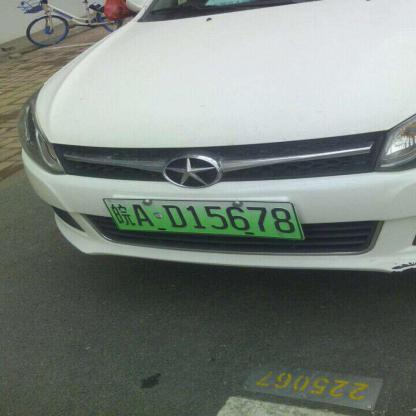lp: (103, 198, 302, 238)
